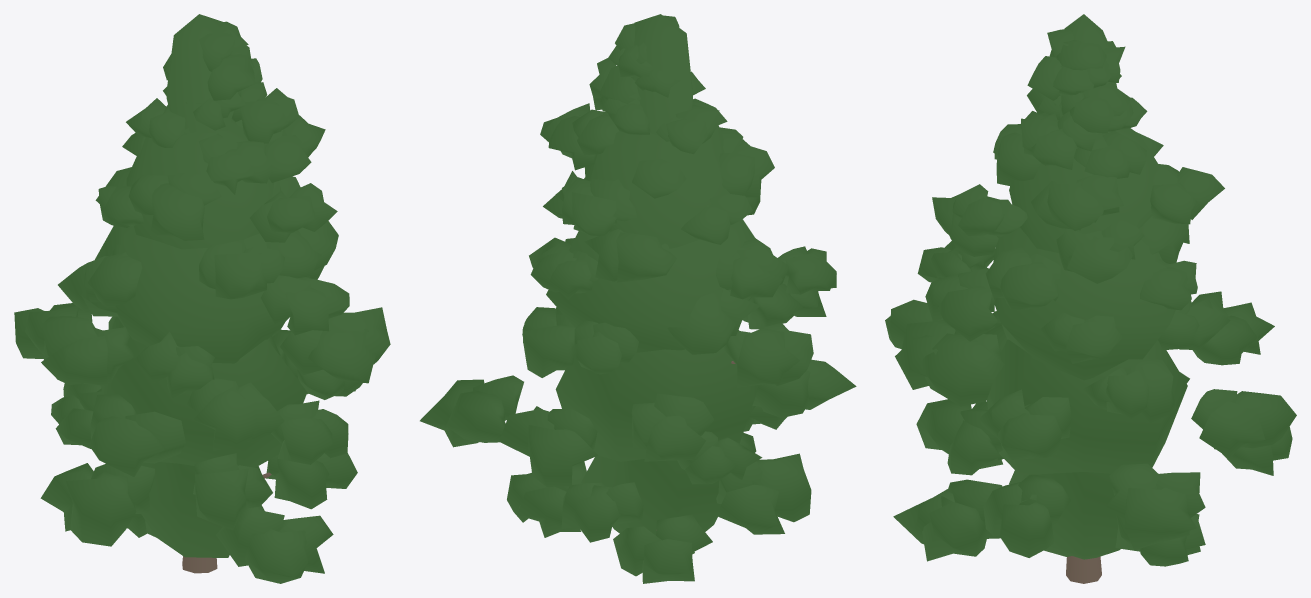
Rendered from Blender_AfghanPine_2.glb.
The picture shows the model from 3 angles, left to right: view 1: azimuth 30°, elevation 25°; view 2: azimuth 150°, elevation 25°; view 3: azimuth 270°, elevation 25°; orthographic projection. The views are drawn at different scales.
Visible parts, largest first — view 1: Blender_AfghanPine_2; view 2: Blender_AfghanPine_2; view 3: Blender_AfghanPine_2.
Boxes of the visible parts, x1=… form: Blender_AfghanPine_2: x1=14, y1=14, x2=390, y2=583; Blender_AfghanPine_2: x1=420, y1=14, x2=856, y2=583; Blender_AfghanPine_2: x1=885, y1=14, x2=1296, y2=583.
Bounding box in the file's own units: 7.5 × 11.62 × 7.72.
